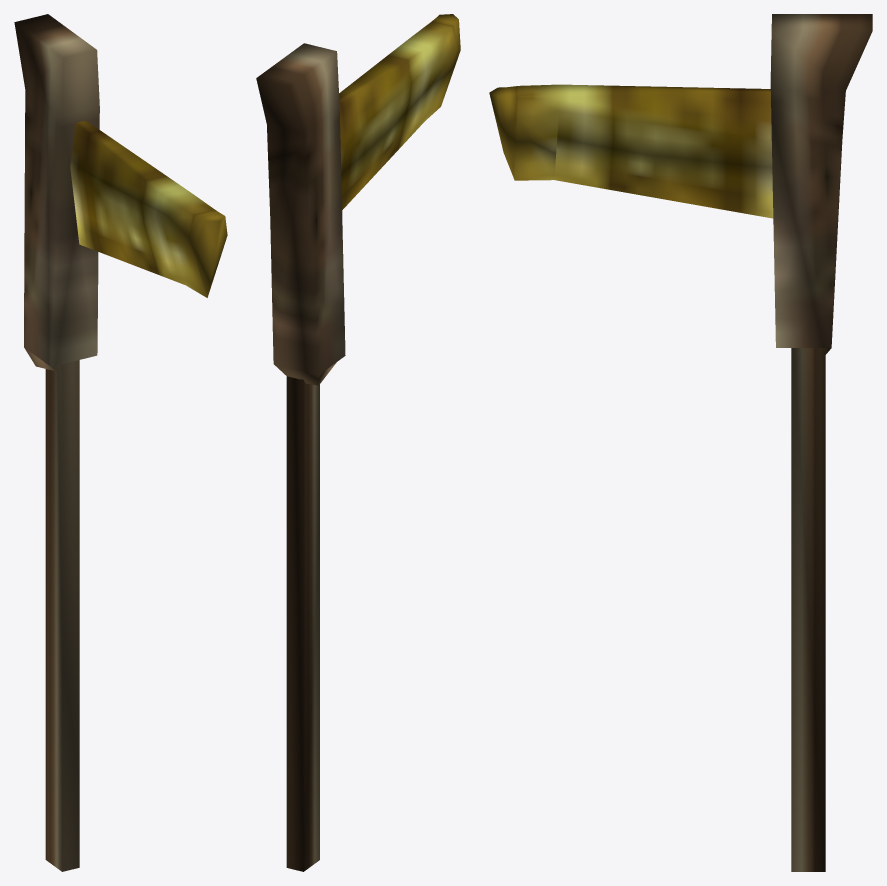
The model's file is yayoi_axe_01.dae.
3 renders of one model, left to right at view 1: azimuth 30°, elevation 25°; view 2: azimuth 150°, elevation 25°; view 3: azimuth 270°, elevation 25°, orthographic. The views are drawn at different scales.
Parts seen in each view (by area): view 1: yayo_axxe_a.001; view 2: yayo_axxe_a.001; view 3: yayo_axxe_a.001.
Part boxes in pixels (x1,y1,x2,y2): yayo_axxe_a.001: (14,14,227,871); yayo_axxe_a.001: (256,14,460,871); yayo_axxe_a.001: (489,14,872,871).
Bounding box in the file's own units: 0.0955 × 0.6639 × 1.61.
1 material, 1 textured.
